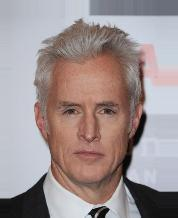face: (60, 100, 120, 161)
